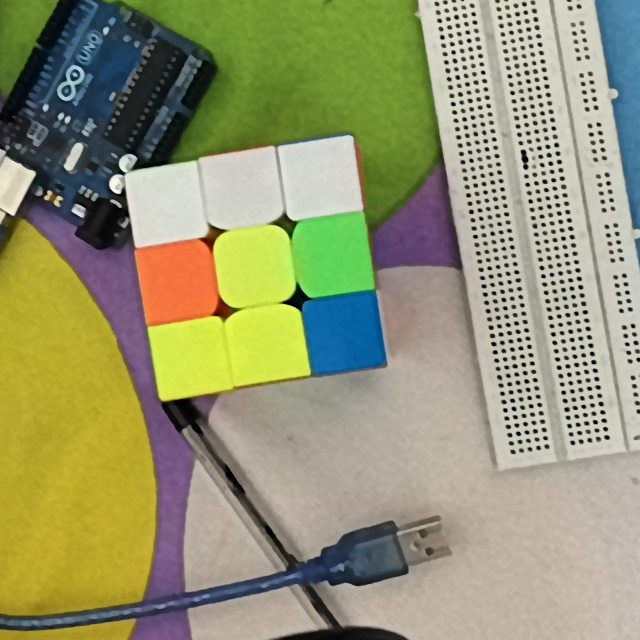tile: (133, 174, 198, 236), (290, 147, 353, 209), (304, 223, 363, 289), (236, 314, 297, 376), (315, 300, 375, 362), (224, 237, 286, 296), (149, 250, 205, 312), (214, 160, 272, 217), (160, 329, 220, 382)
